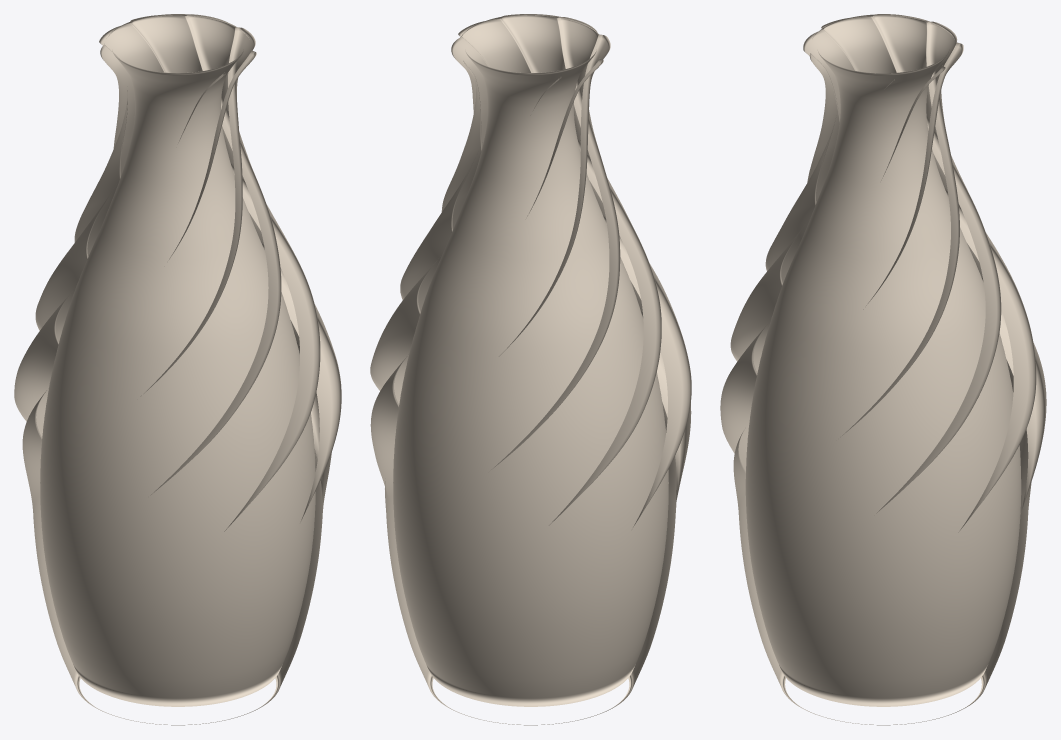
File: vaso-onda-alto.glb
The picture shows the model from 3 angles, left to right: view 1: azimuth 30°, elevation 25°; view 2: azimuth 150°, elevation 25°; view 3: azimuth 270°, elevation 25°; orthographic projection.
Size of the model in its own units: 0.1486 by 0.3219 by 0.1486.
